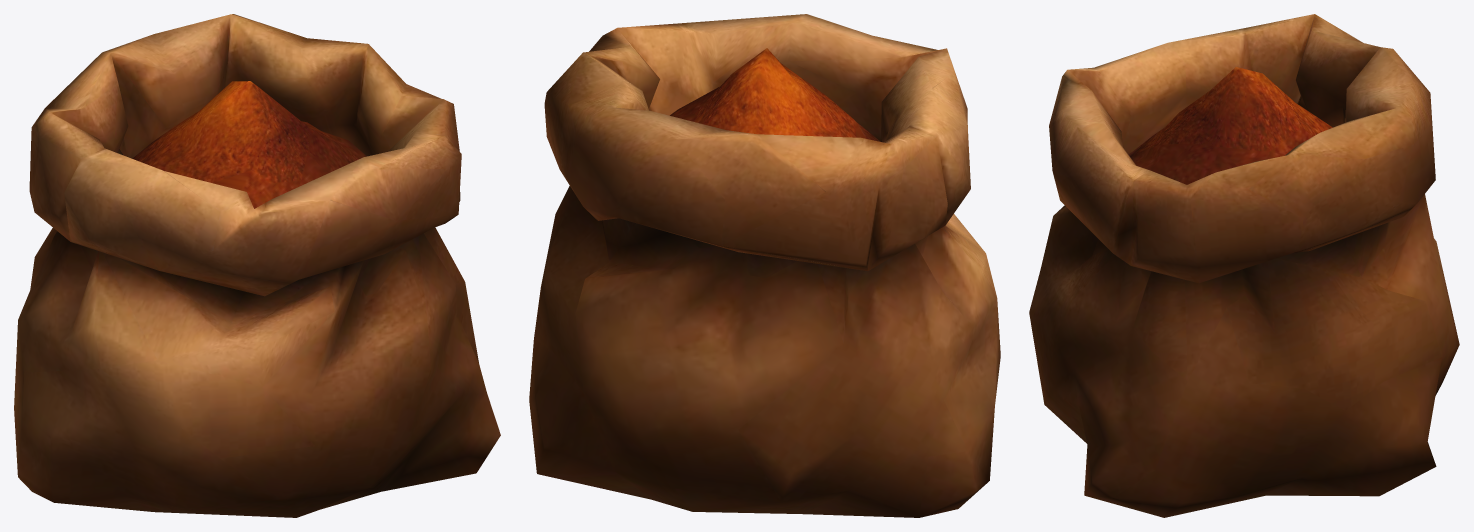
File: especias-desktop.glb
The picture shows the model from 3 angles, left to right: view 1: azimuth 30°, elevation 25°; view 2: azimuth 150°, elevation 25°; view 3: azimuth 270°, elevation 25°; orthographic projection. The views are drawn at different scales.
Parts seen in each view (by area): view 1: tripo_node_e817f048-f5bd-4169-9a54-a7b4b347147f; view 2: tripo_node_e817f048-f5bd-4169-9a54-a7b4b347147f; view 3: tripo_node_e817f048-f5bd-4169-9a54-a7b4b347147f.
Part boxes in pixels (left/top/right/bottom): tripo_node_e817f048-f5bd-4169-9a54-a7b4b347147f: left=14, top=14, right=500, bottom=517; tripo_node_e817f048-f5bd-4169-9a54-a7b4b347147f: left=529, top=14, right=1000, bottom=517; tripo_node_e817f048-f5bd-4169-9a54-a7b4b347147f: left=1029, top=14, right=1459, bottom=517.
Bounding box in the file's own units: 0.9842 × 0.8756 × 0.9195.
1 material, 1 textured.
